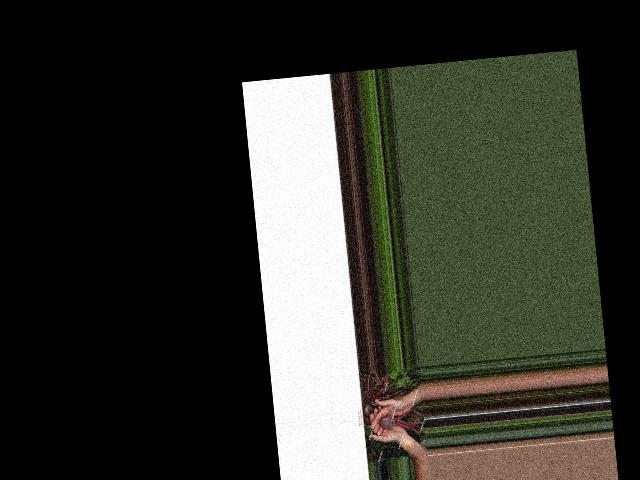beet: (376, 407, 424, 439)
